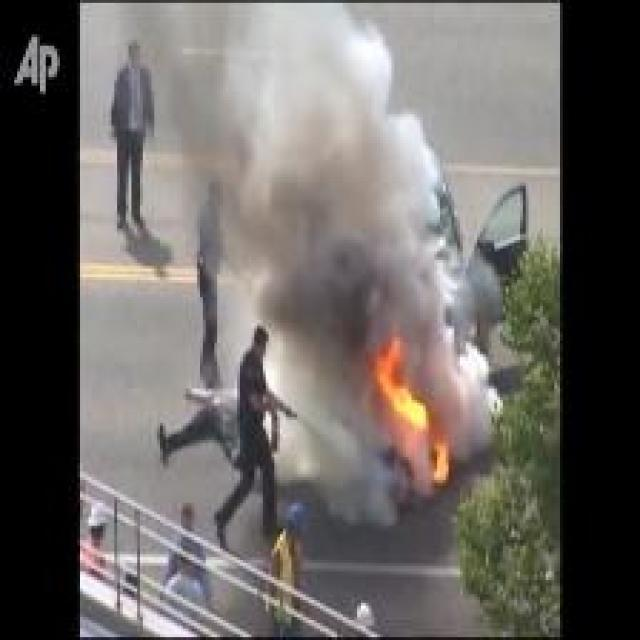Fire: (376, 348, 426, 430)
Smoke: (156, 0, 460, 323), (273, 327, 379, 520), (428, 325, 496, 460)
